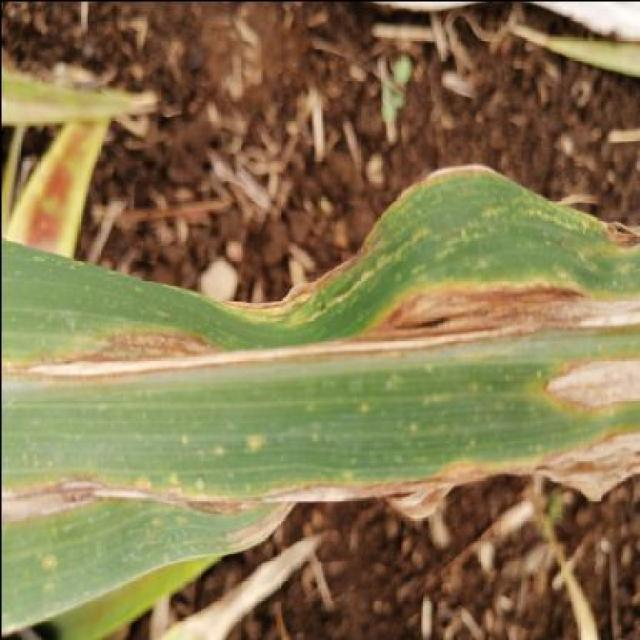Corn_Leaf_Blight: (0, 164, 640, 610)
